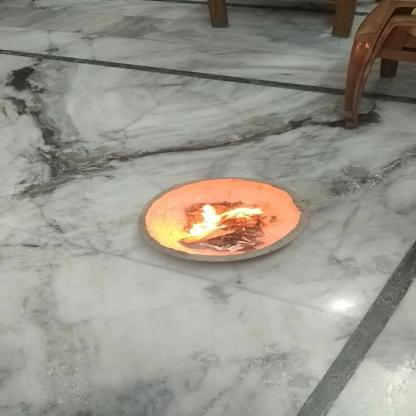fire: (183, 203, 269, 239)
